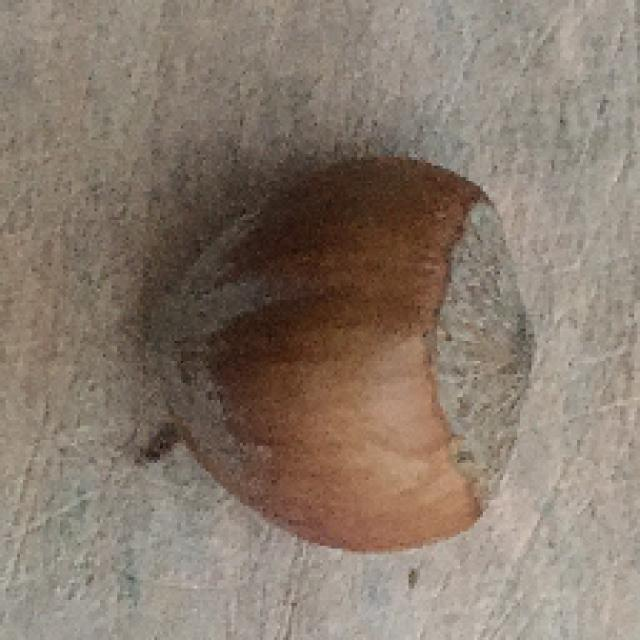qualityHazelnut: (147, 152, 535, 556)
